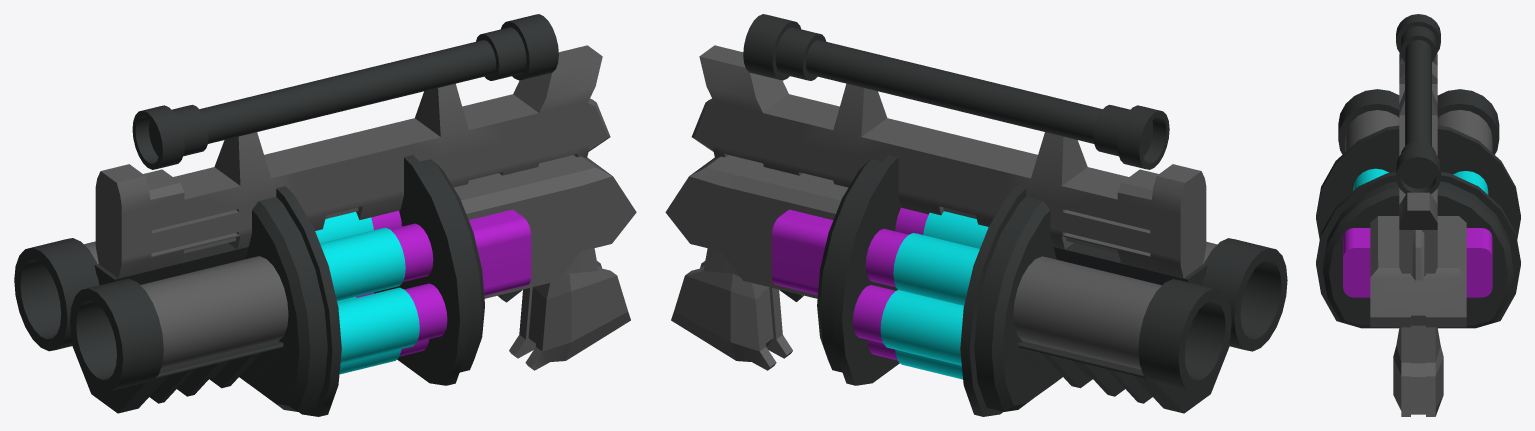
Rendered from weapon_pistol_2_model.fbx.
3 renders of one model, left to right at view 1: azimuth 30°, elevation 25°; view 2: azimuth 150°, elevation 25°; view 3: azimuth 270°, elevation 25°, orthographic. The views are drawn at different scales.
Visible parts, largest first — view 1: ShootGun_Basters; view 2: ShootGun_Basters; view 3: ShootGun_Basters.
Boxes of the visible parts, x1,y1,x2,y2 form: ShootGun_Basters: (14,14,636,416); ShootGun_Basters: (665,14,1287,416); ShootGun_Basters: (1316,14,1520,416).
Size of the model in its own units: 27.54 by 16.3 by 12.
